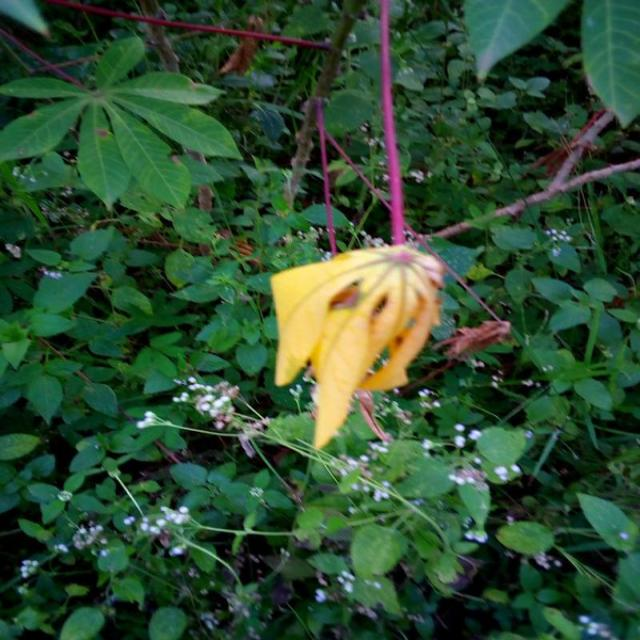cassava leaf: (0, 33, 242, 214), (269, 242, 443, 450)
